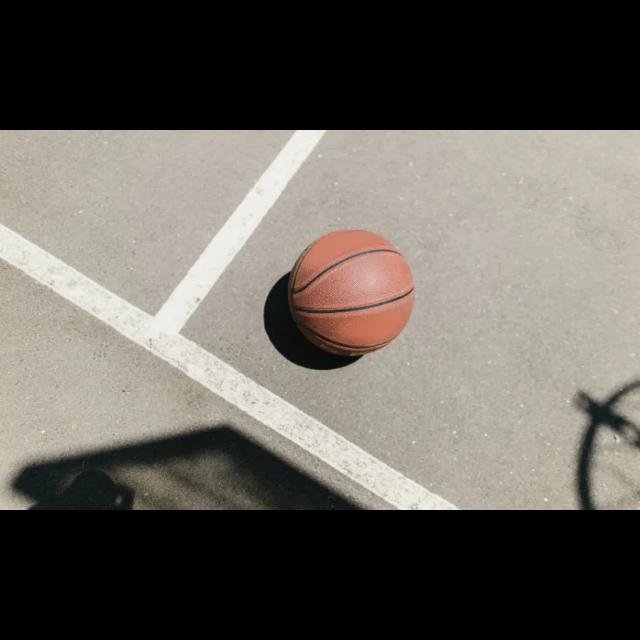basketball: (288, 230, 414, 356)
